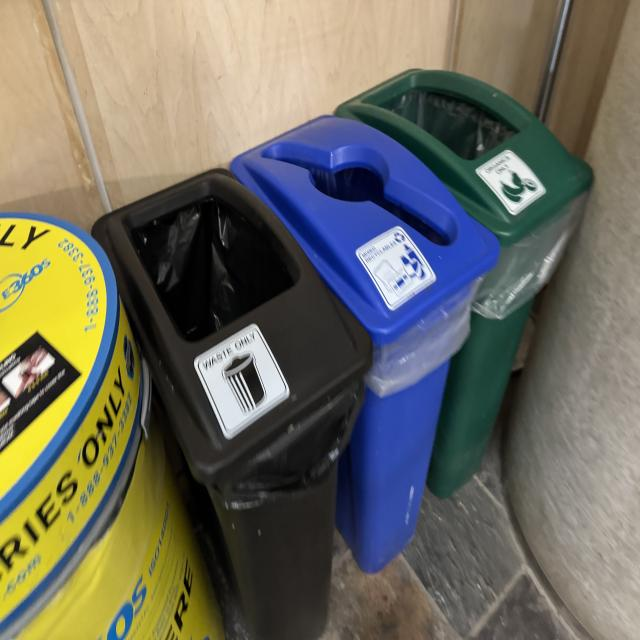Dustbin: (94, 65, 599, 636)
